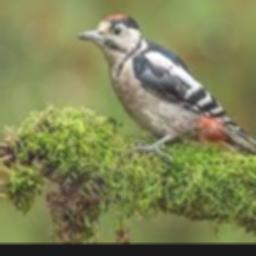Woodpecker: (77, 13, 256, 157)
